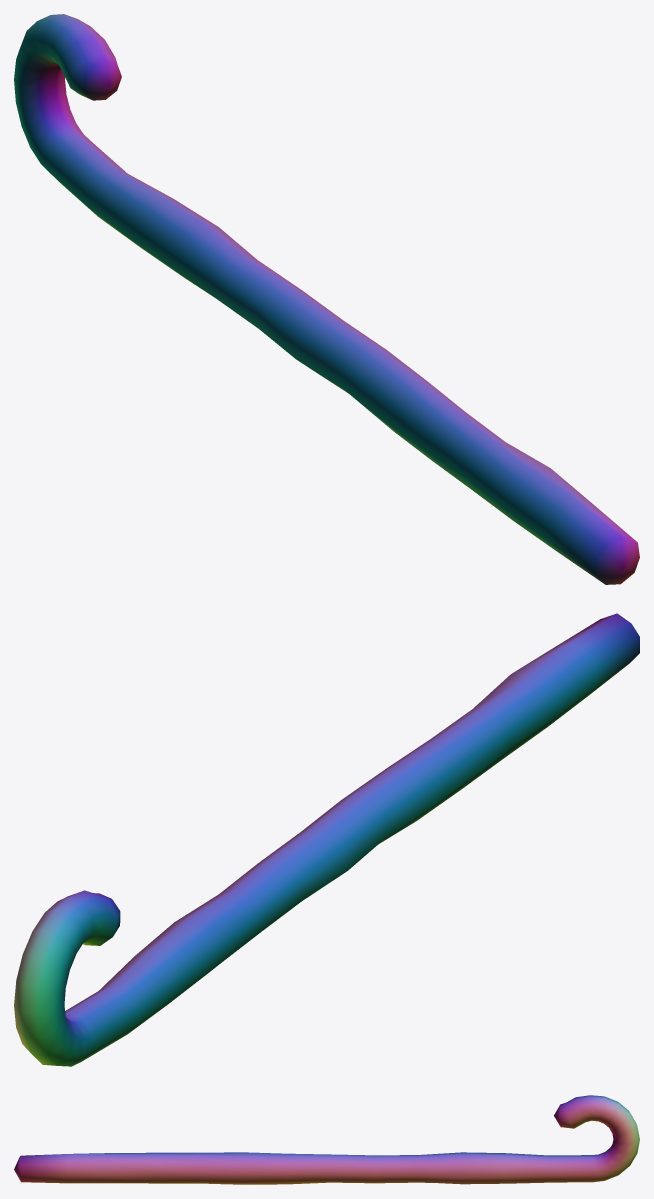
Rendered from SM_MonWeapon_Crook.fbx.
3 renders of one model, top to bottom at view 1: azimuth 30°, elevation 25°; view 2: azimuth 150°, elevation 25°; view 3: azimuth 270°, elevation 25°, orthographic. The views are drawn at different scales.
Parts seen in each view (by area): view 1: SM_MonWeapon_Crook; view 2: SM_MonWeapon_Crook; view 3: SM_MonWeapon_Crook.
Boxes of the visible parts, <box> form: SM_MonWeapon_Crook: <box>14,14,639,584</box>; SM_MonWeapon_Crook: <box>14,613,639,1066</box>; SM_MonWeapon_Crook: <box>14,1095,639,1184</box>.
Bounding box in the file's own units: 0.0663 × 0.1889 × 1.23.
